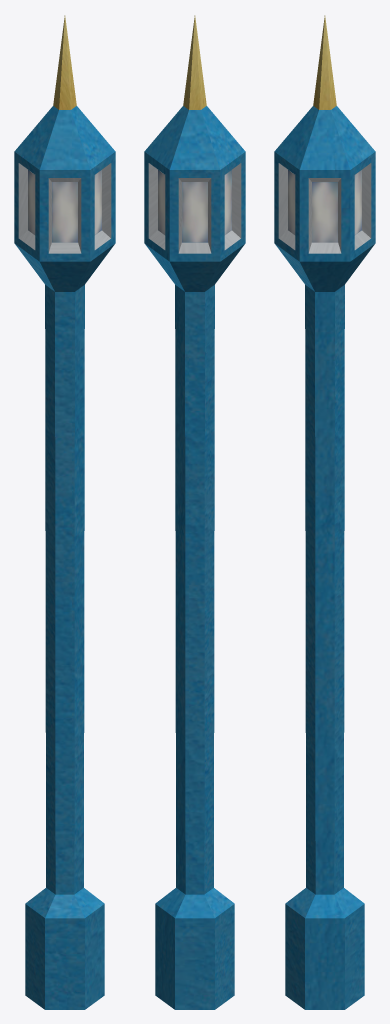
The model's file is human_lamp.fbx.
3 renders of one model, left to right at view 1: azimuth 90°, elevation 25°; view 2: azimuth 210°, elevation 25°; view 3: azimuth 270°, elevation 25°, orthographic.
Visible parts, largest first — view 1: human_lamp; view 2: human_lamp; view 3: human_lamp.
Part boxes in pixels (x1,y1,x2,y2): human_lamp: [14, 15, 115, 1009]; human_lamp: [144, 15, 245, 1009]; human_lamp: [274, 15, 375, 1009].
Bounding box in the file's own units: 86.6 × 1070 × 100.
